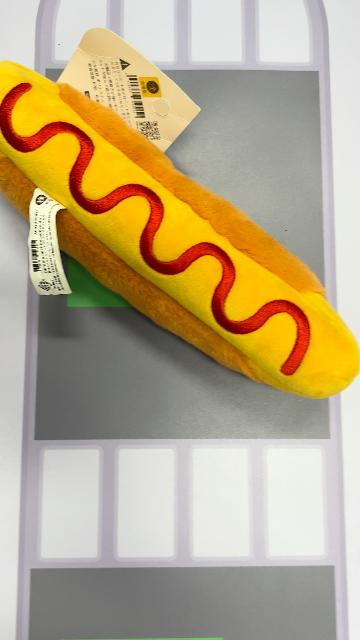hotdog: (1, 59, 358, 400)
